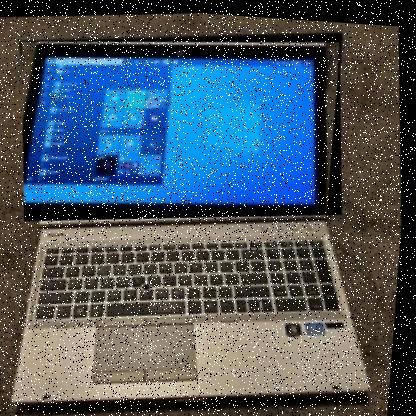Normal: (12, 14, 356, 238)
